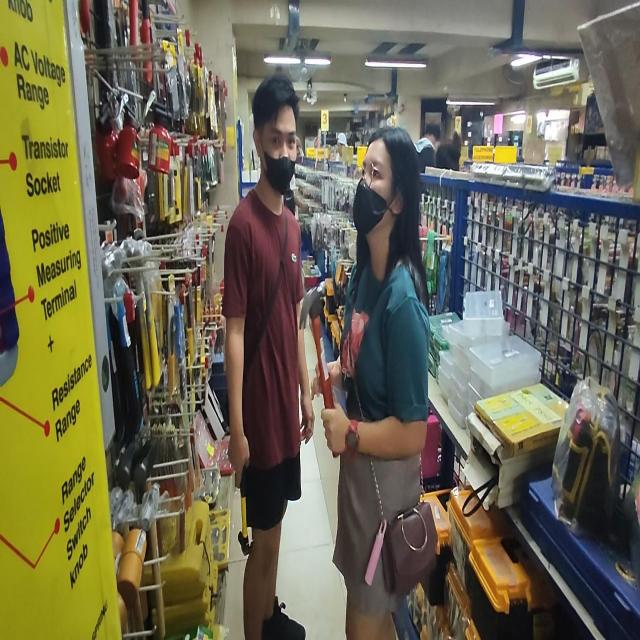hammer: (298, 281, 340, 457), (238, 463, 254, 558)
